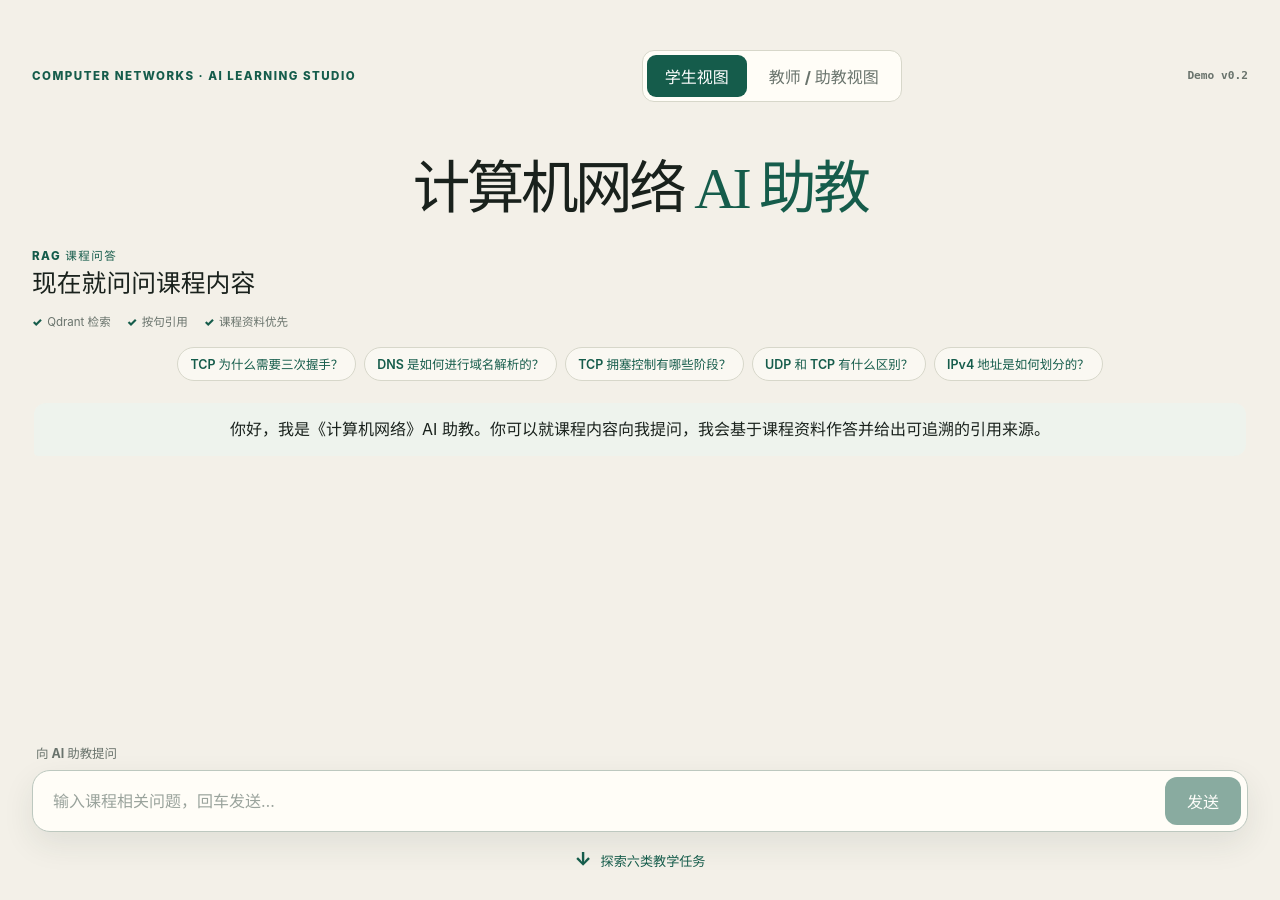
it: TeacherDashboard › switches from the student view to the teacher dashboard
Expected: the field labelled "向 AI 助教提问" is shown, [39,777,1157,825]
Click the button "教师 / 助教视图": (824, 76) [751,55,897,97]
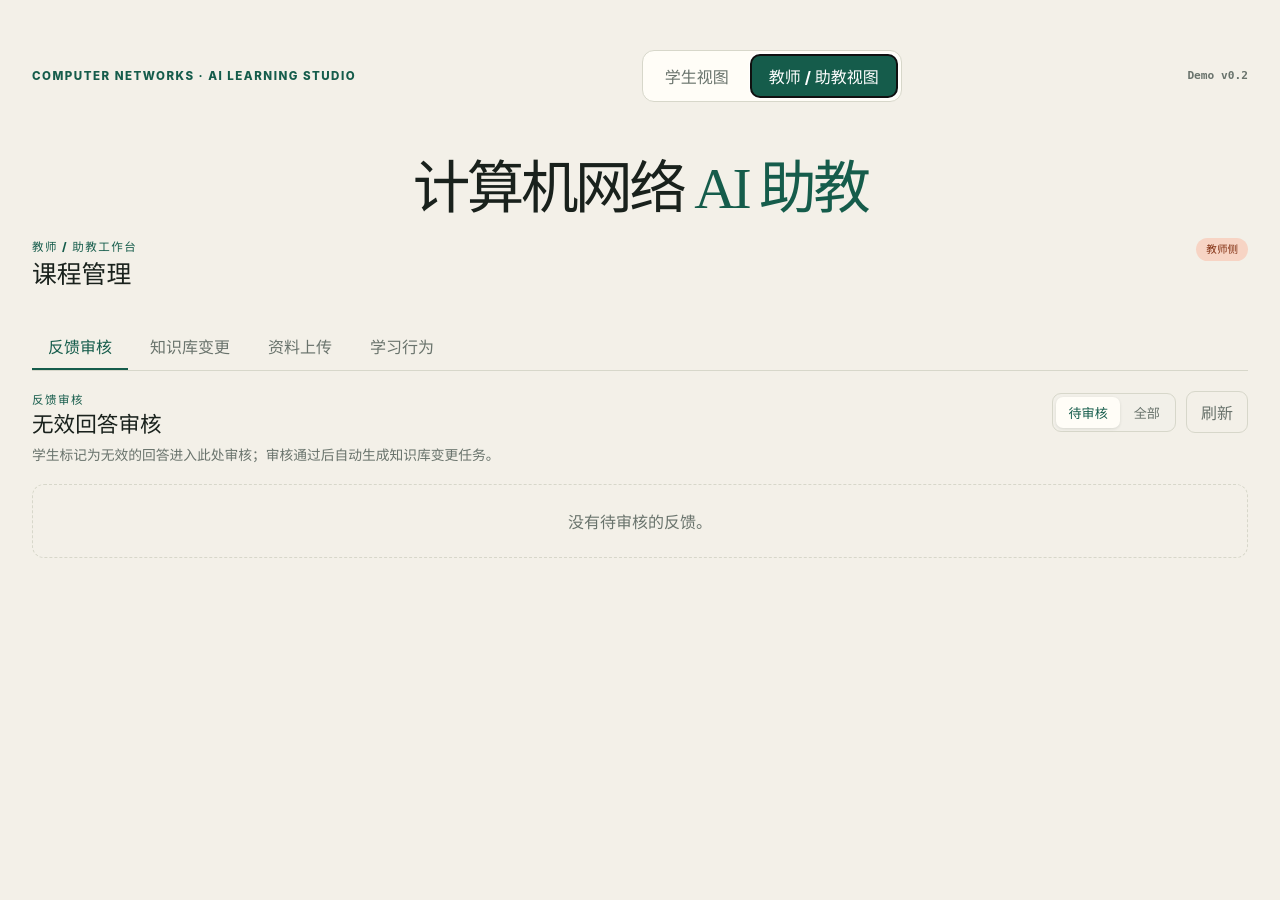
Result: the text "教师 / 助教工作台" is shown at [32,238,137,254]
Result: the button "反馈审核" is shown at [32,324,128,370]
Result: the button "知识库变更" is shown at [134,324,246,370]
